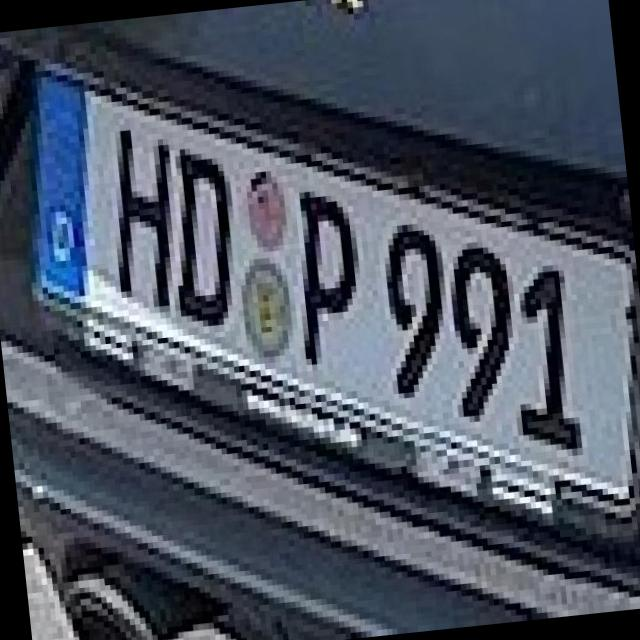1: (488, 244, 592, 448)
7: (0, 27, 65, 267)
9: (353, 196, 460, 395), (418, 214, 524, 412)
D: (146, 126, 244, 330)
H: (80, 107, 184, 306)
P: (270, 168, 374, 366)
